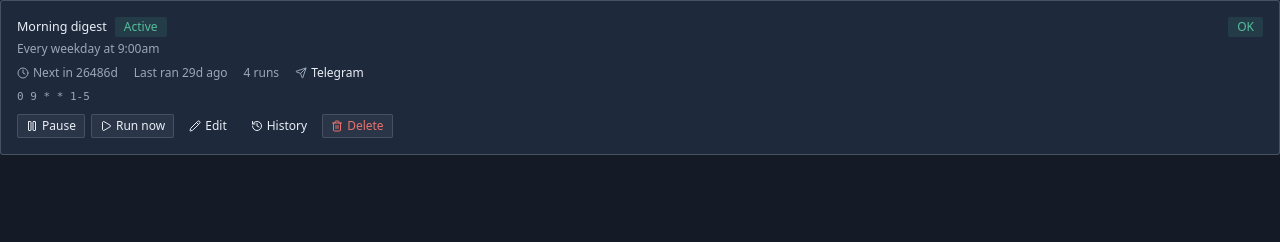
it: JobCard run history disclosure › shows the loading state while runs are pending
Click the button with aria-label "Toggle run history".
click(279, 126)  # box [242, 114, 316, 138]
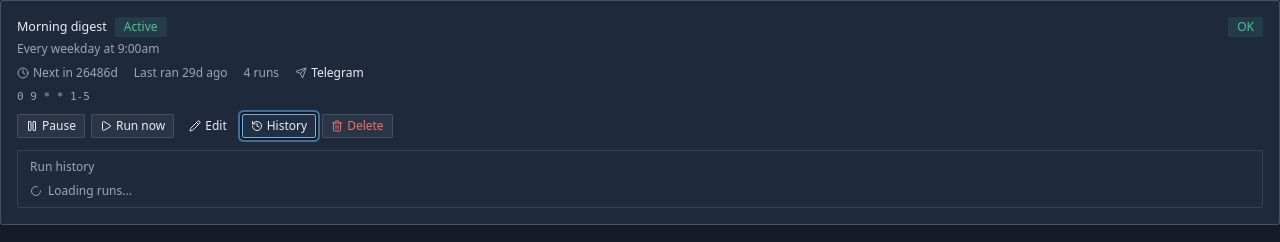
Expected: the text "Loading runs..." is shown, [30, 182, 132, 198]
